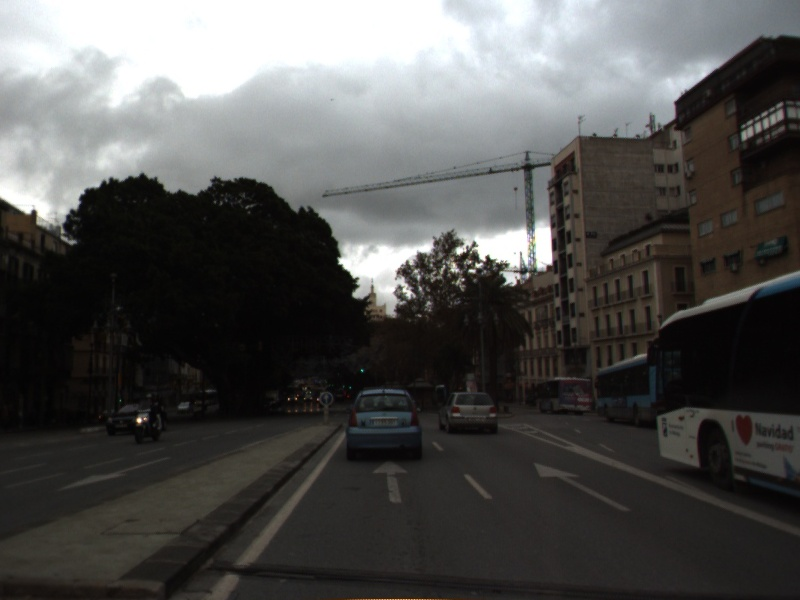STRAIGHT: (531, 460, 634, 513), (370, 458, 411, 505)
